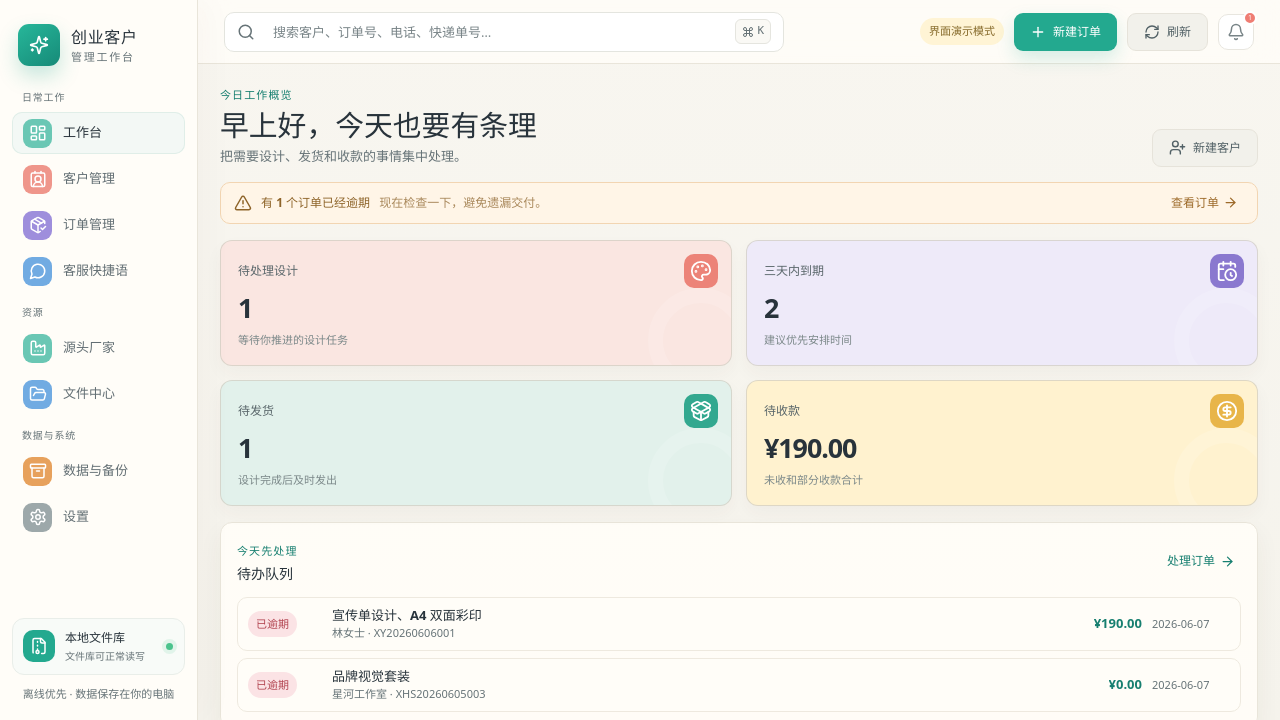
App › offers a direct customer creation shortcut from the dashboard
The width and height of the screenshot is (1280, 720).
Click the button "新建客户".
click(1205, 148)  # box [1152, 128, 1258, 166]
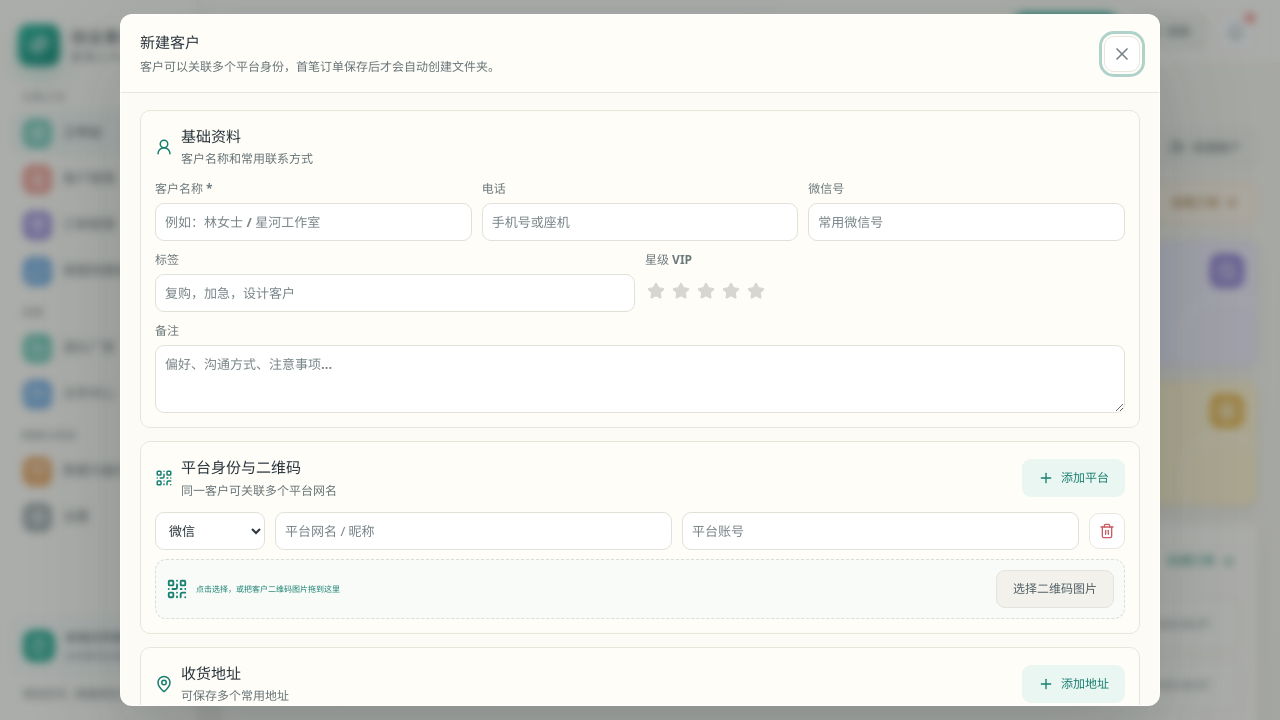
Check: the heading "新建客户" is shown, box [140, 32, 200, 52]
